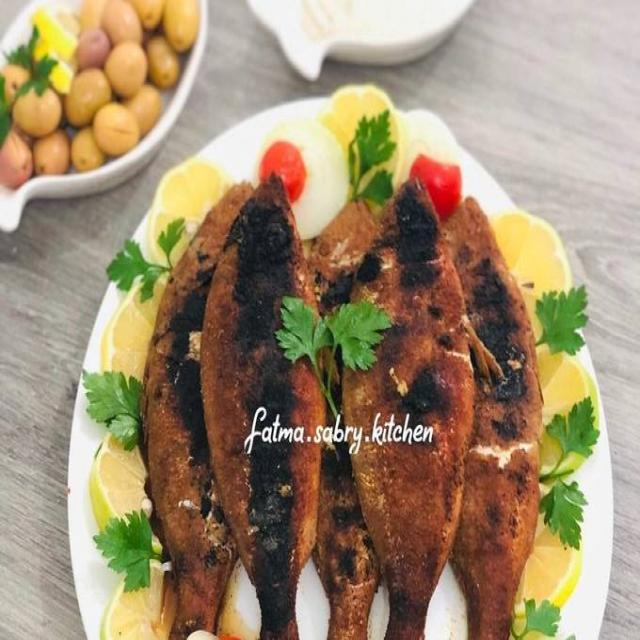Peixe: (139, 169, 544, 637), (338, 175, 474, 638), (198, 172, 328, 638), (138, 175, 255, 638), (439, 194, 544, 637)
